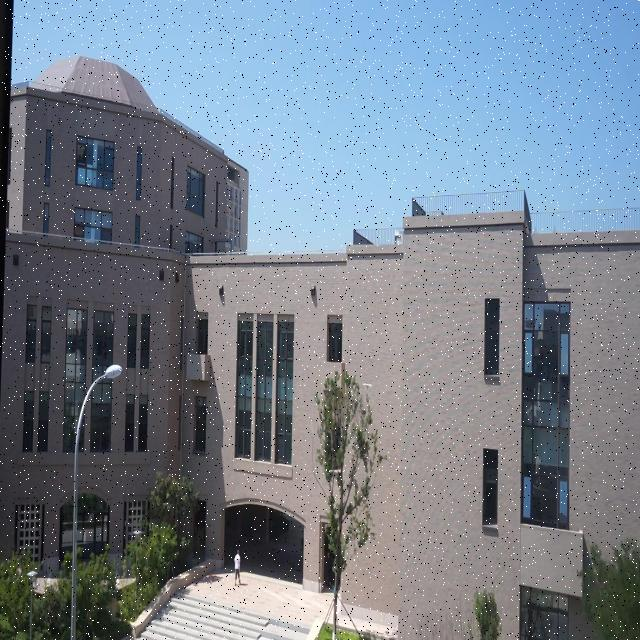UAV: (363, 384, 372, 391)
